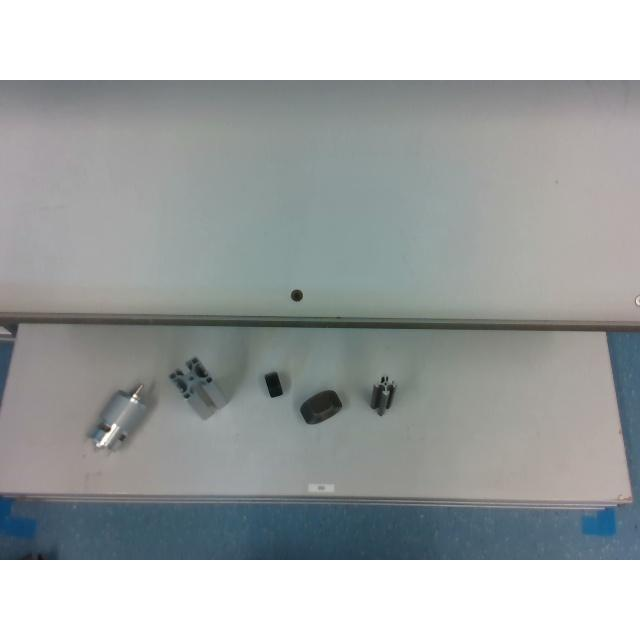F20_20_B: (370, 376, 396, 416)
M20: (264, 371, 282, 397)
M30: (299, 390, 341, 424)
Motor2: (87, 382, 147, 450)
S40_40_G: (168, 358, 228, 418)
